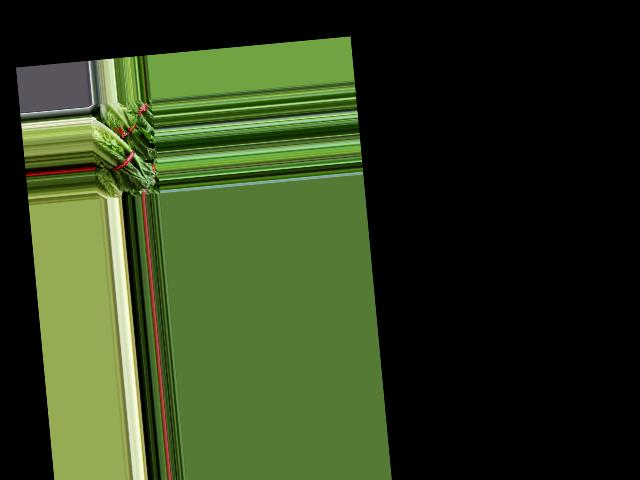lettuce: (89, 112, 157, 195)
